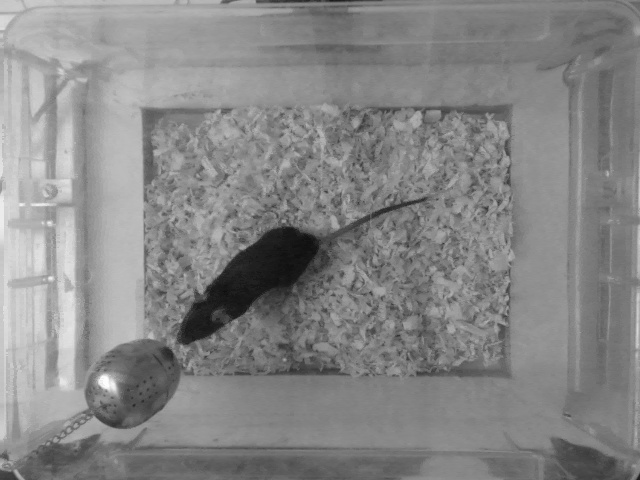mice: (175, 193, 427, 349)
